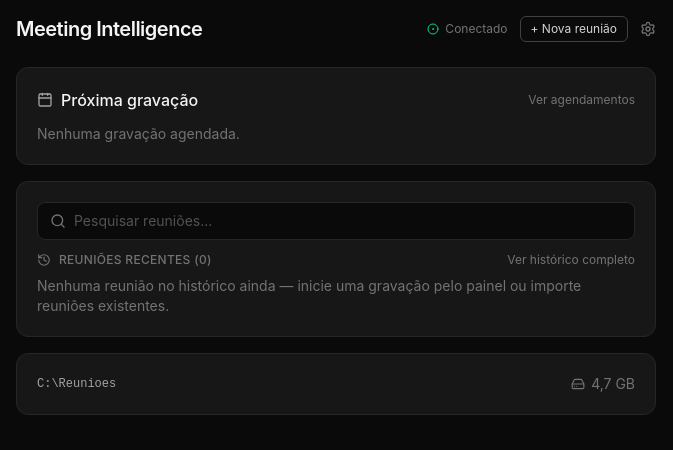
Test: Dashboard › busca reunioes por texto via api.getMeetings
Expected: the text "Nenhuma reunião no histórico ainda — inicie uma gravação pelo painel ou importe reuniões existentes." is shown, left=37, top=277, right=581, bottom=314
Type "ERP" into the field with placeholder "Pesquisar reuniões…" at (348, 221), box left=74, top=211, right=622, bottom=231
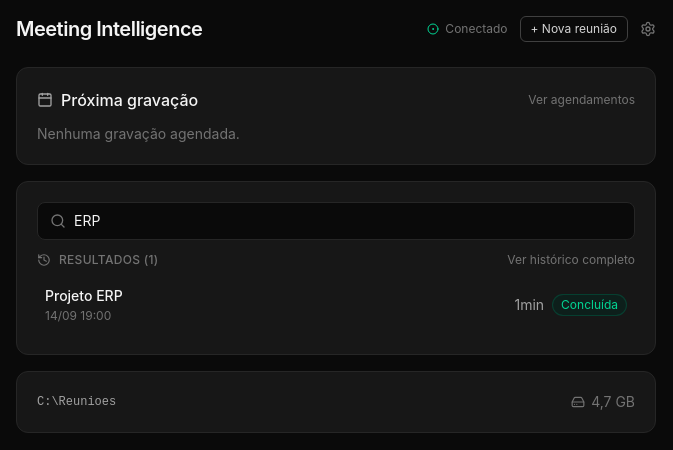
Now the text "Projeto ERP" is shown, box left=45, top=286, right=123, bottom=306
Now the text "Resultados (1)" is shown, box left=37, top=252, right=158, bottom=268
